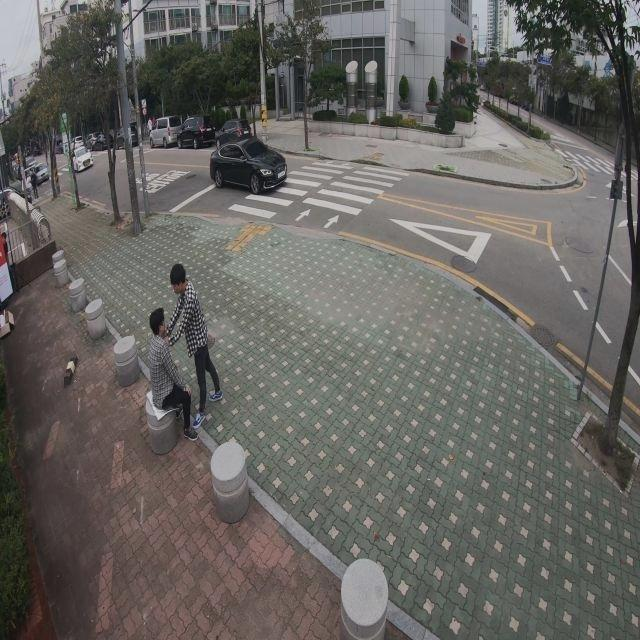fight: (153, 262, 221, 441)
